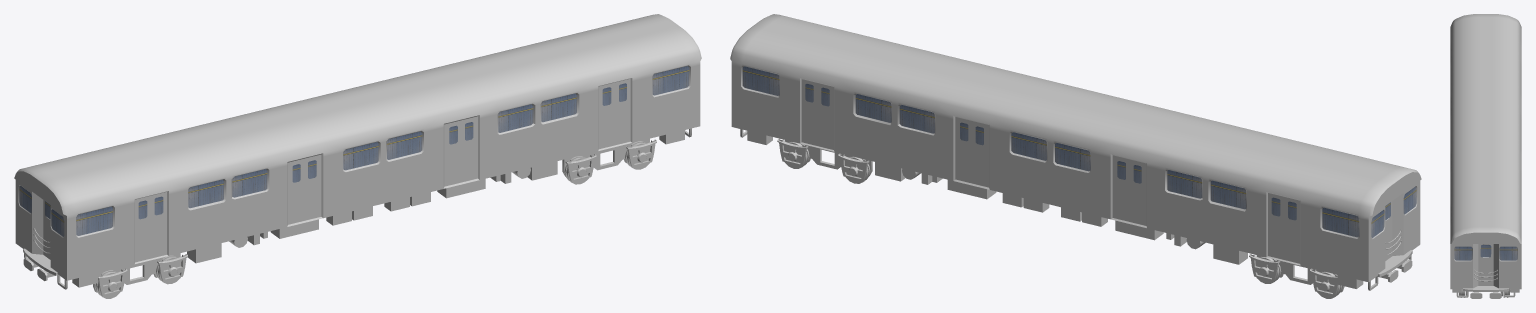
File: subwaytrain2_high.fbx
3 renders of one model, left to right at view 1: azimuth 30°, elevation 25°; view 2: azimuth 150°, elevation 25°; view 3: azimuth 270°, elevation 25°, orthographic. The views are drawn at different scales.
Visible parts, largest first — view 1: Mesh; view 2: Mesh; view 3: Mesh.
Part boxes in pixels (x1,y1,x2,y2): Mesh: (14, 14, 701, 298); Mesh: (730, 14, 1421, 298); Mesh: (1450, 14, 1521, 298).
Size of the model in its own units: 1792 by 318 by 245.
